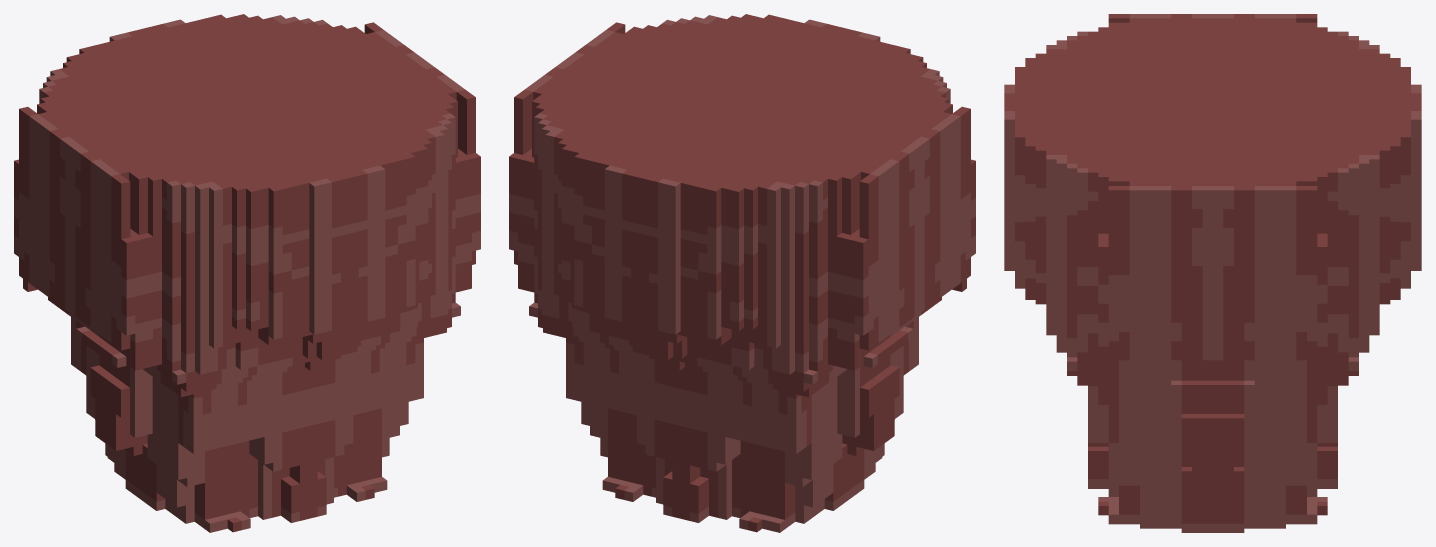
The model's file is groundspike.obj.
The picture shows the model from 3 angles, left to right: view 1: azimuth 30°, elevation 25°; view 2: azimuth 150°, elevation 25°; view 3: azimuth 270°, elevation 25°; orthographic projection.
Bounding box in the file's own units: 40 × 40 × 40.
1 material, 1 textured.
